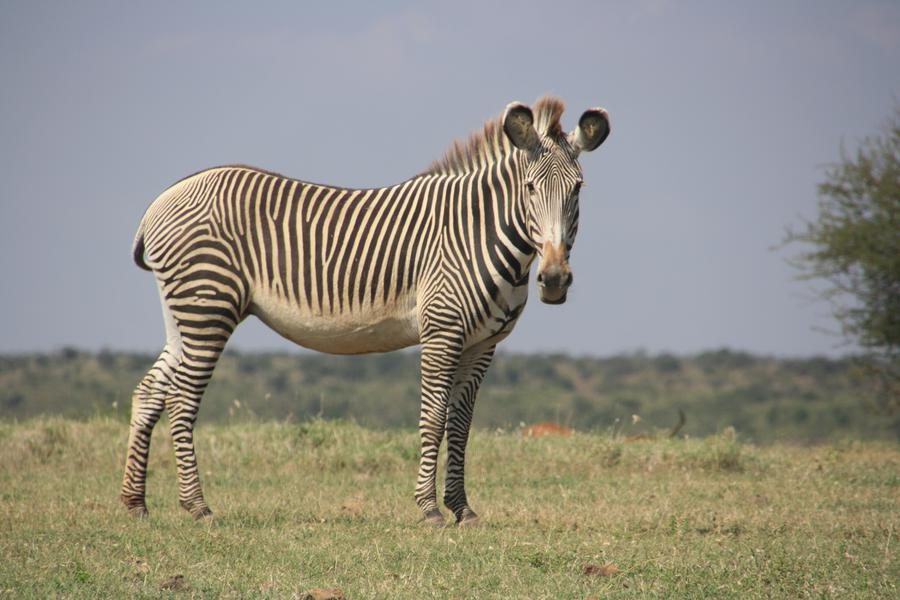zebra_grevys: (142, 153, 490, 336)
